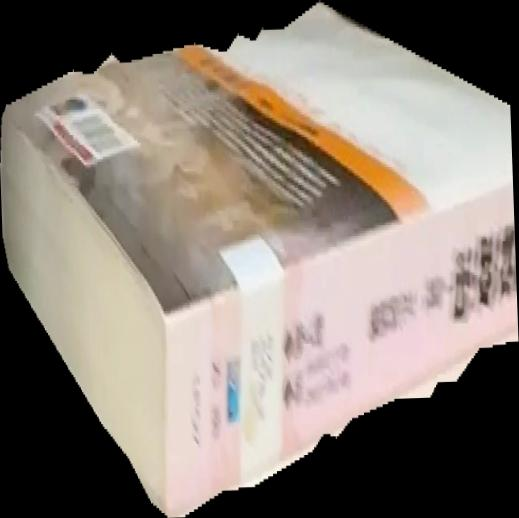flat: (1, 1, 519, 518)
